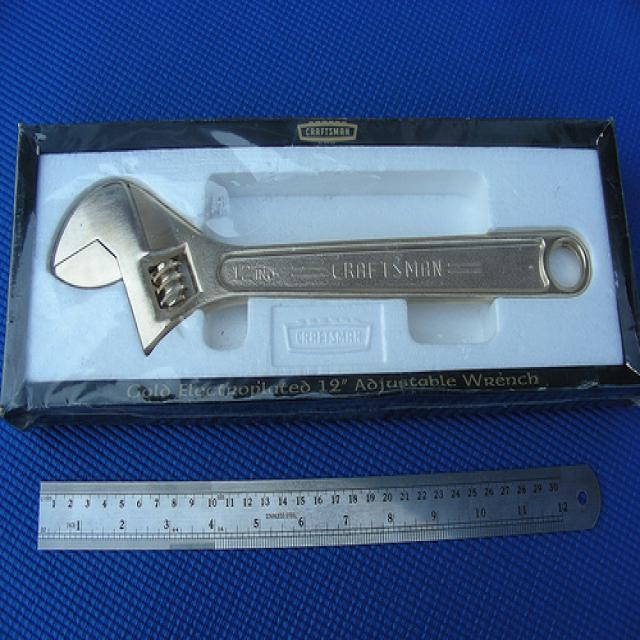wrench: (45, 172, 598, 358)
